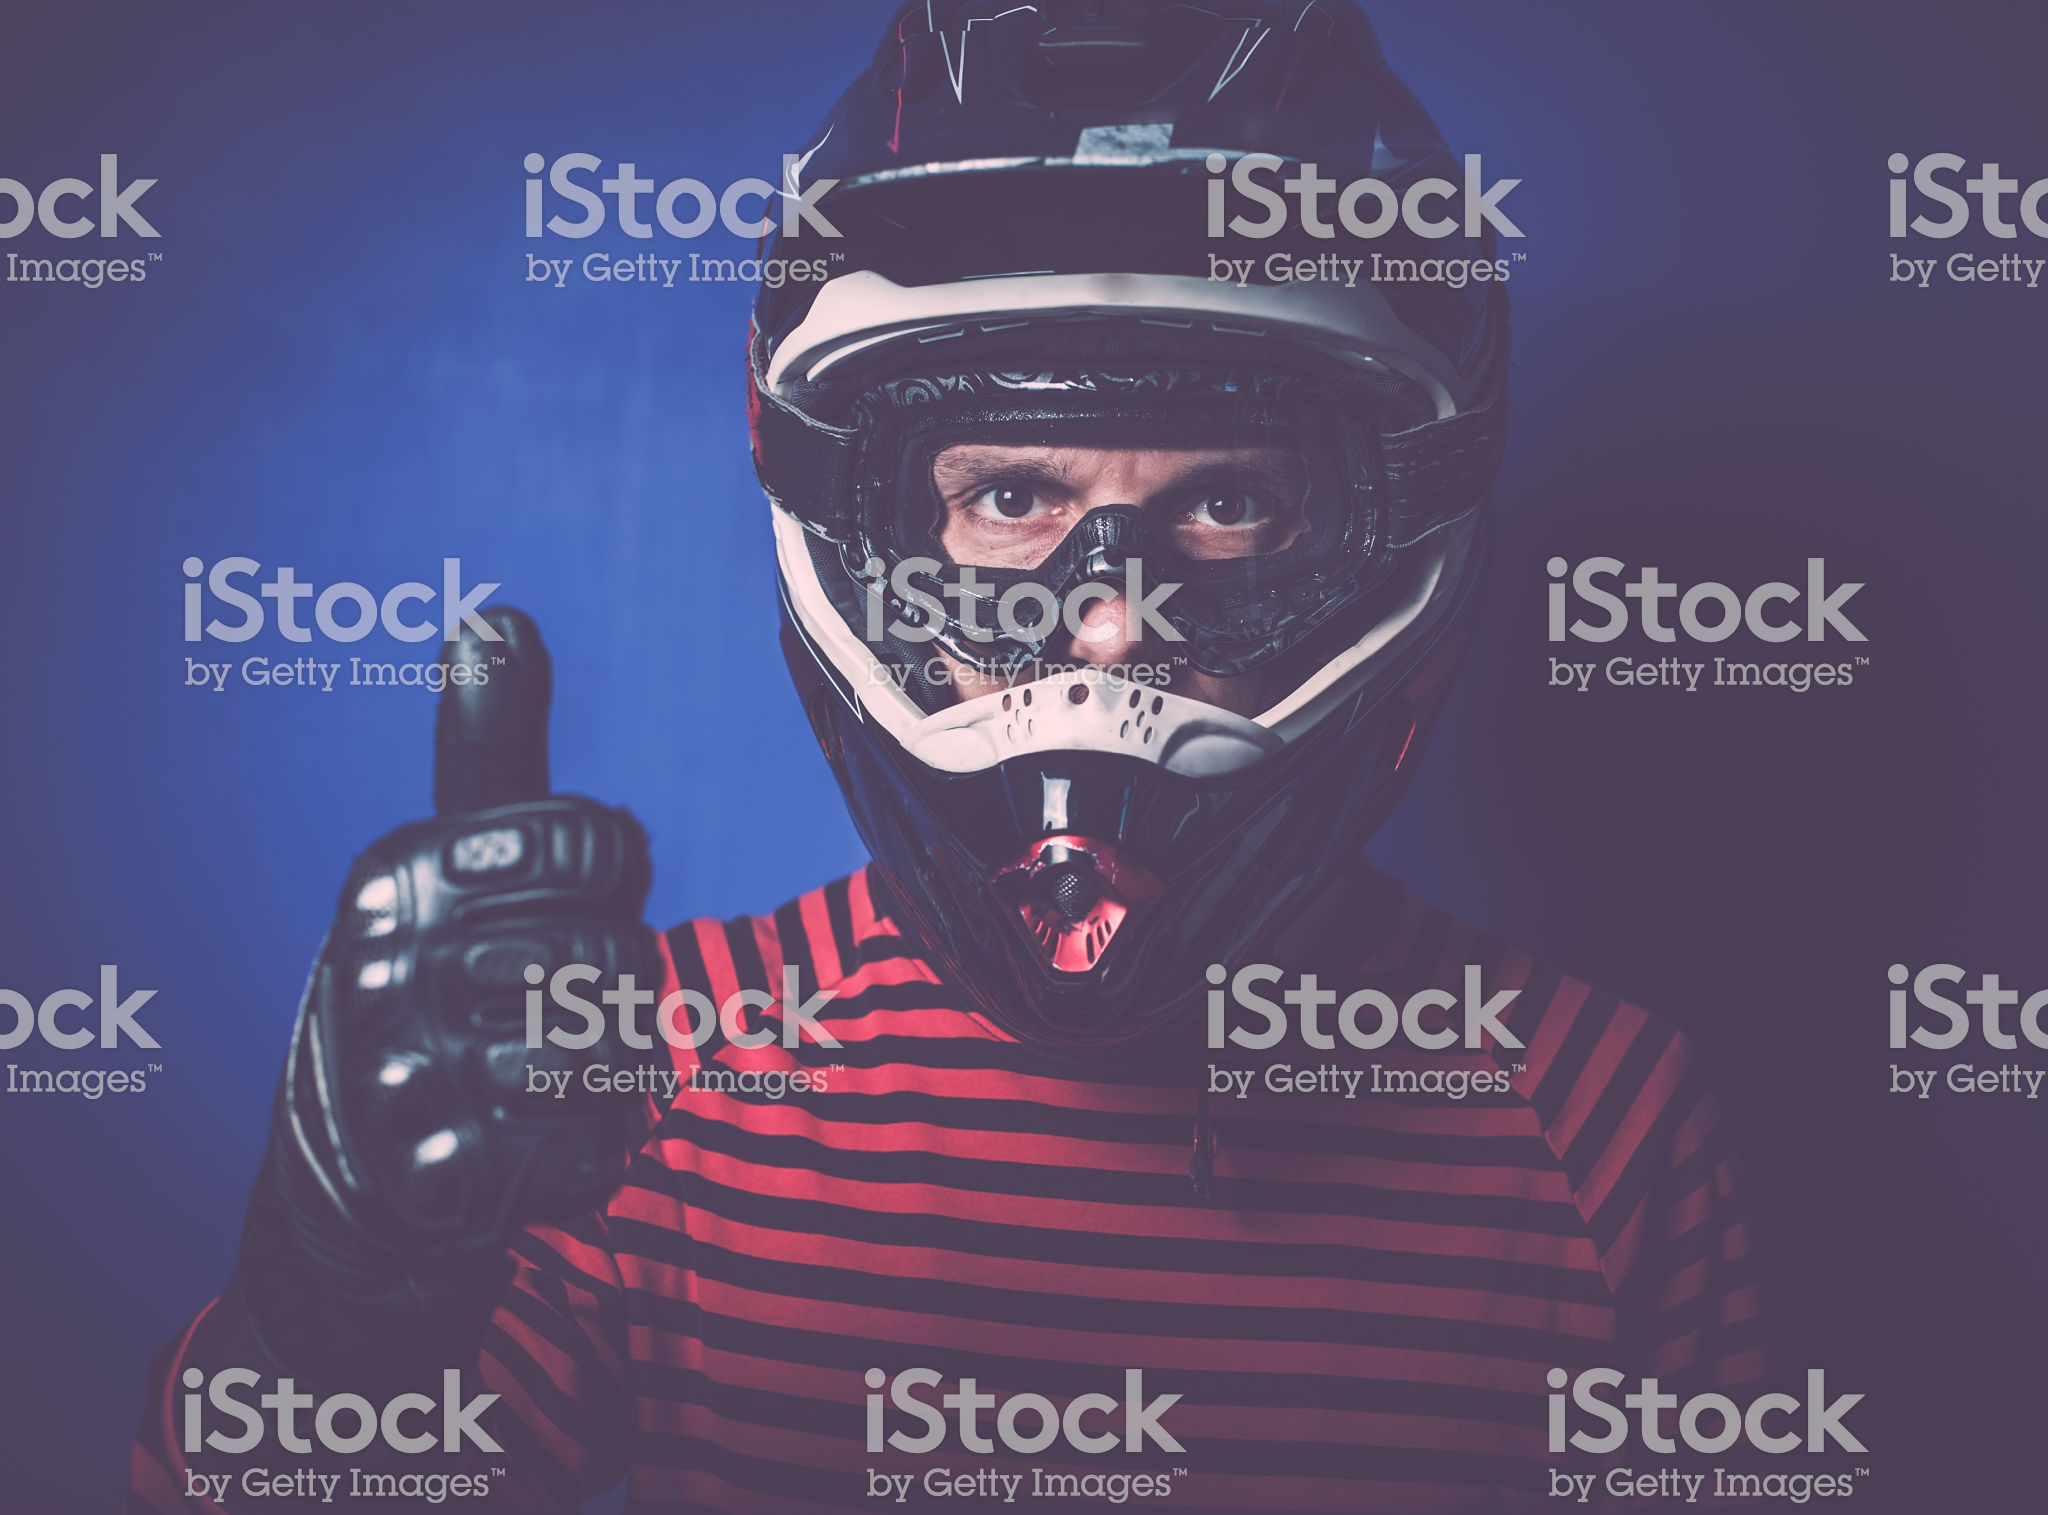helmet: (714, 30, 1521, 1041)
